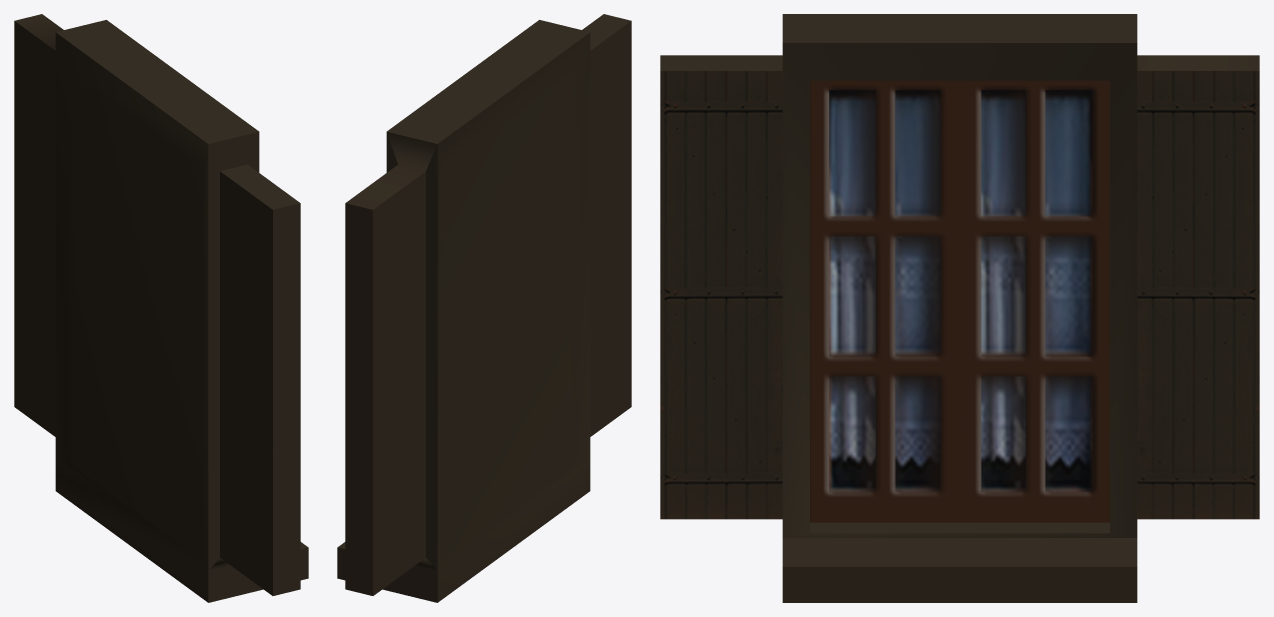
The model's file is HouseWindowFBX.fbx.
3 renders of one model, left to right at view 1: azimuth 30°, elevation 25°; view 2: azimuth 150°, elevation 25°; view 3: azimuth 270°, elevation 25°, orthographic. The views are drawn at different scales.
Parts seen in each view (by area): view 1: WindowMed:polySurface1; view 2: WindowMed:polySurface1; view 3: WindowMed:polySurface1.
Part boxes in pixels (x1,y1,x2,y2): WindowMed:polySurface1: (14,14,308,602); WindowMed:polySurface1: (337,14,631,602); WindowMed:polySurface1: (660,14,1259,602).
Size of the model in its own units: 132 by 577 by 589.
